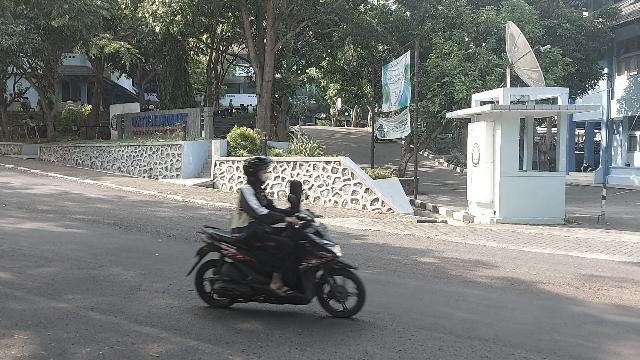helm: (245, 158, 276, 185)
motor: (187, 194, 367, 319)
